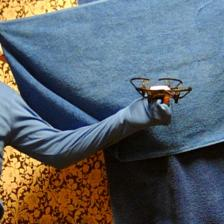drone: (128, 73, 194, 106)
